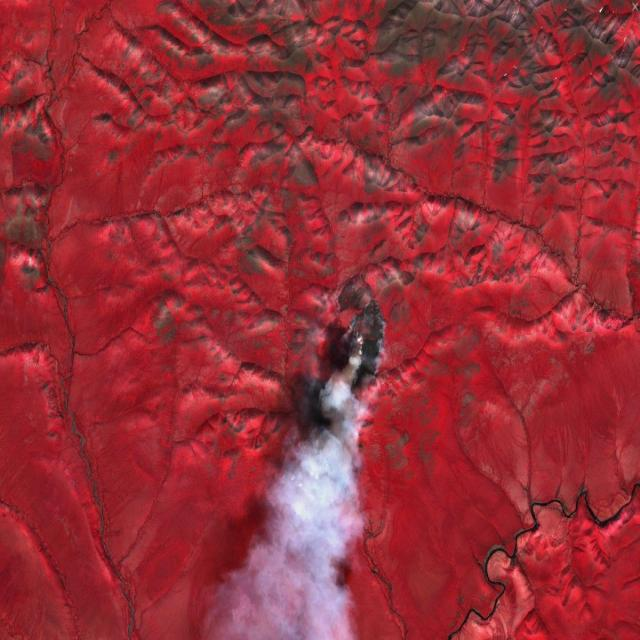fire: (294, 276, 389, 444)
